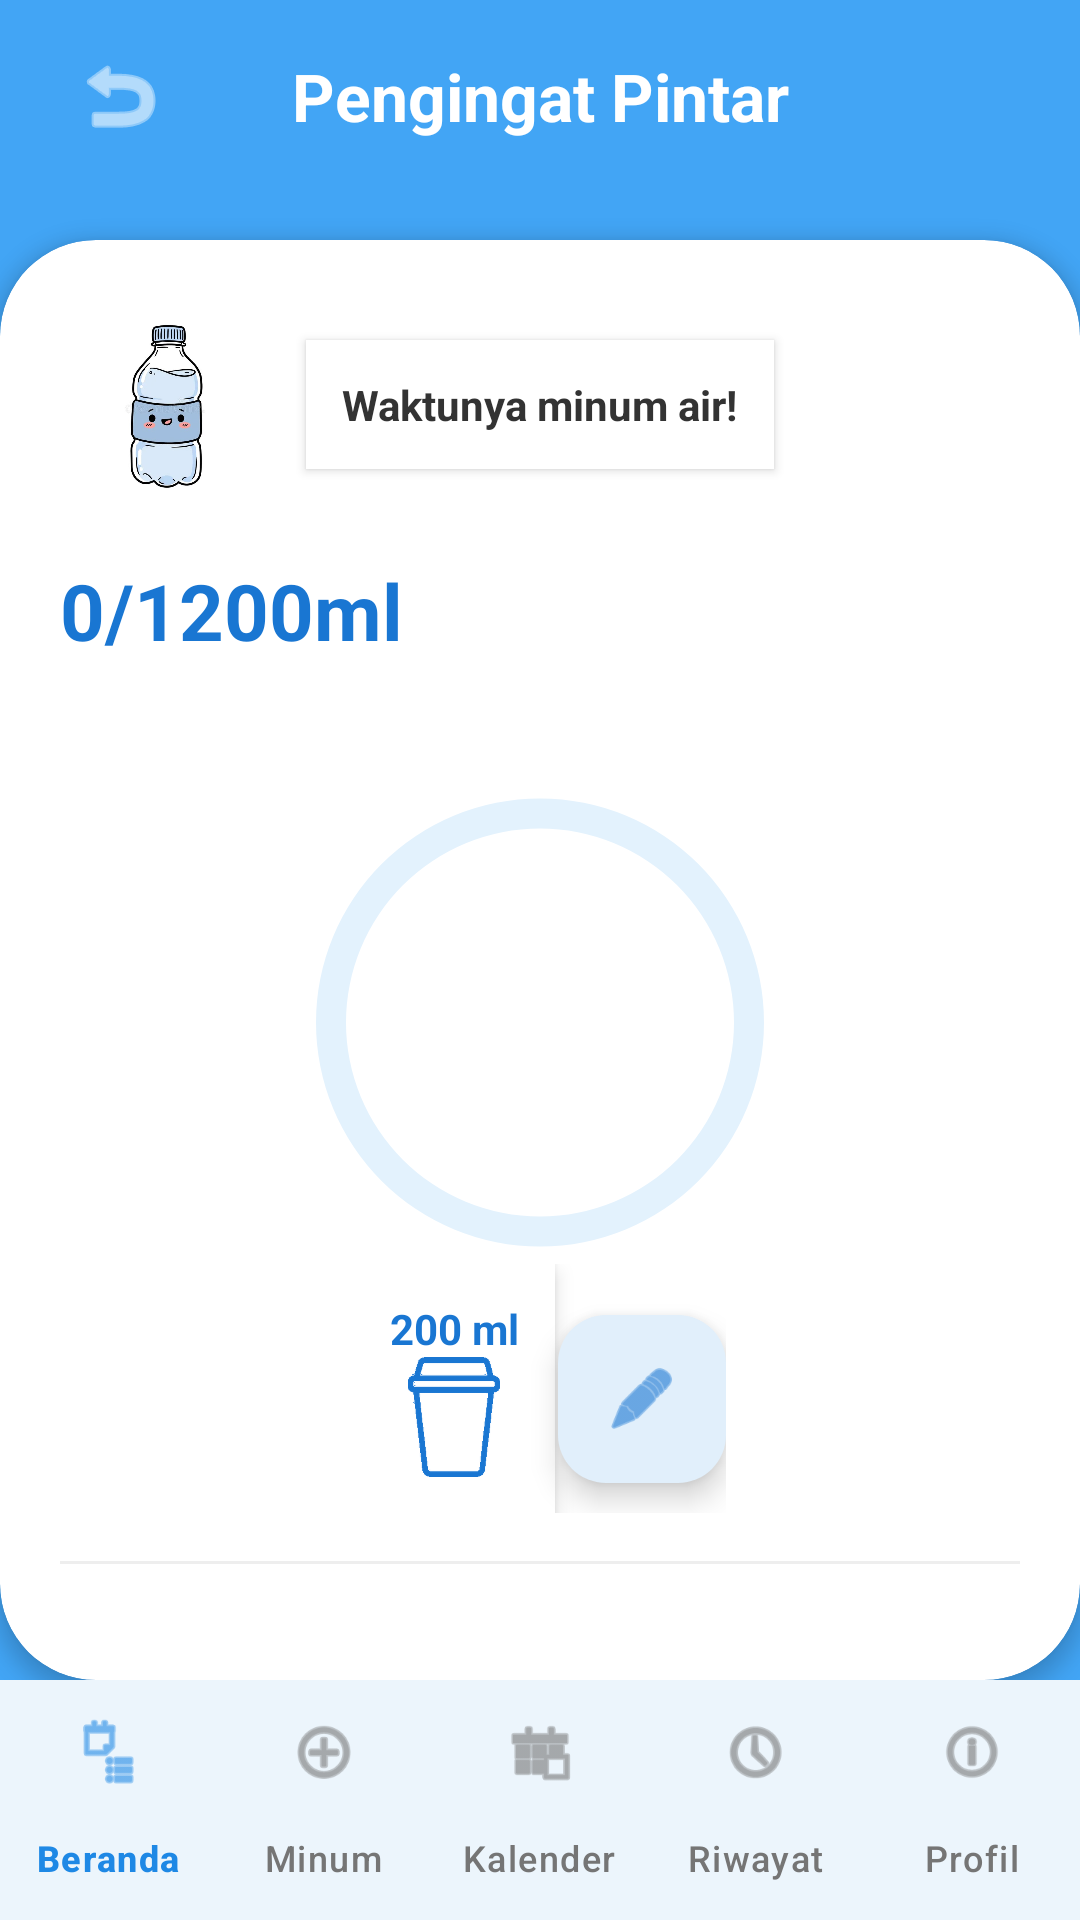

Locate icon controls on the screen. Image size 1080 × 1920, boxes as bbox=[x1, y1, x2, y2].
Kembali: bbox=[87, 65, 156, 128]
